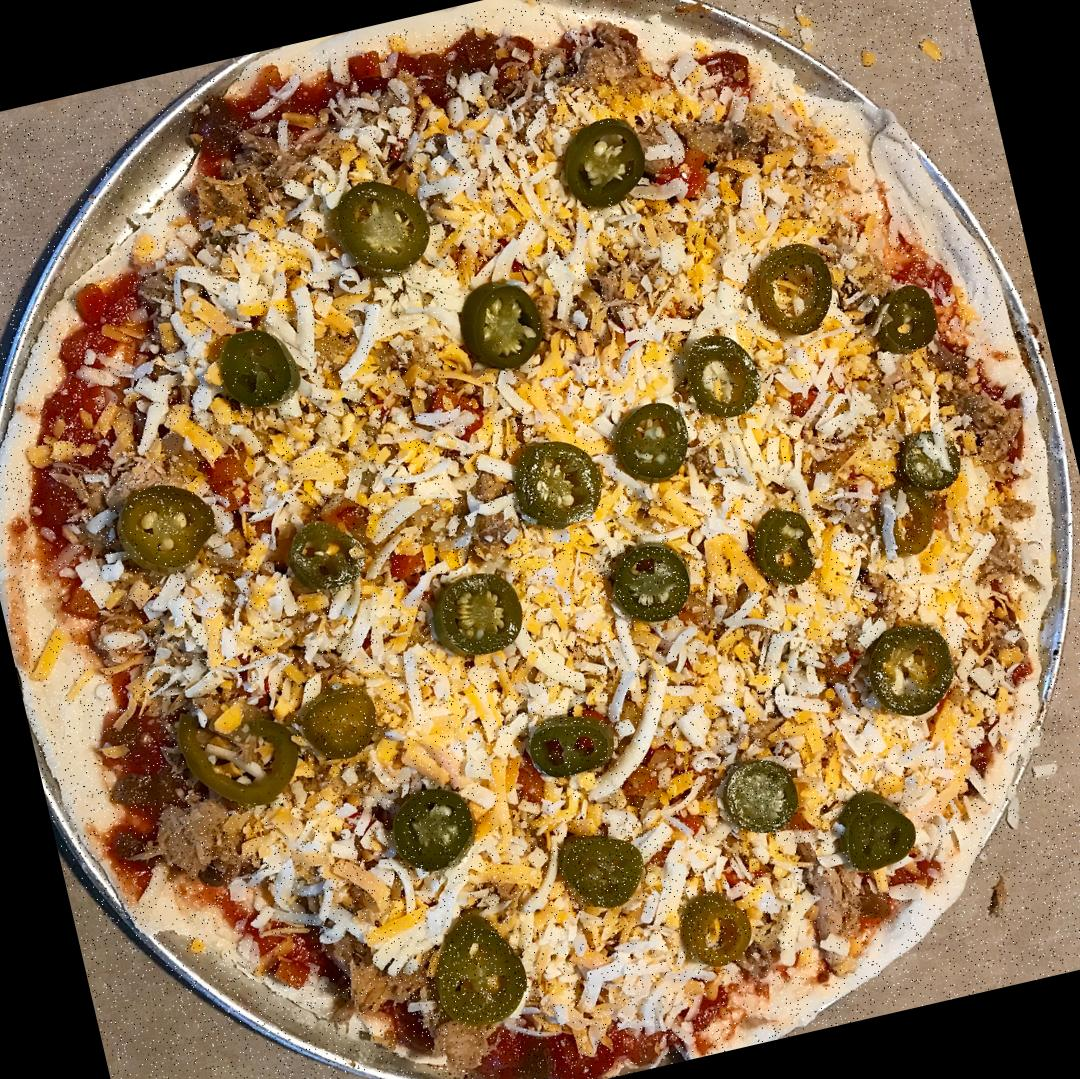Peppers: (171, 688, 309, 816), (842, 609, 967, 743), (720, 488, 852, 610), (440, 266, 568, 378), (601, 369, 704, 502), (415, 918, 531, 1034), (509, 701, 637, 804), (662, 316, 768, 436), (419, 556, 530, 670), (327, 174, 434, 284), (544, 115, 656, 212), (374, 772, 476, 878), (201, 319, 317, 412), (108, 478, 219, 572), (742, 236, 843, 339), (506, 427, 609, 528), (660, 886, 770, 980), (704, 752, 802, 852), (556, 820, 656, 912), (296, 675, 390, 764), (831, 787, 916, 878), (600, 544, 691, 628), (272, 513, 353, 601), (886, 421, 954, 487), (876, 278, 938, 348)
Pizza: (0, 0, 1080, 1079)
